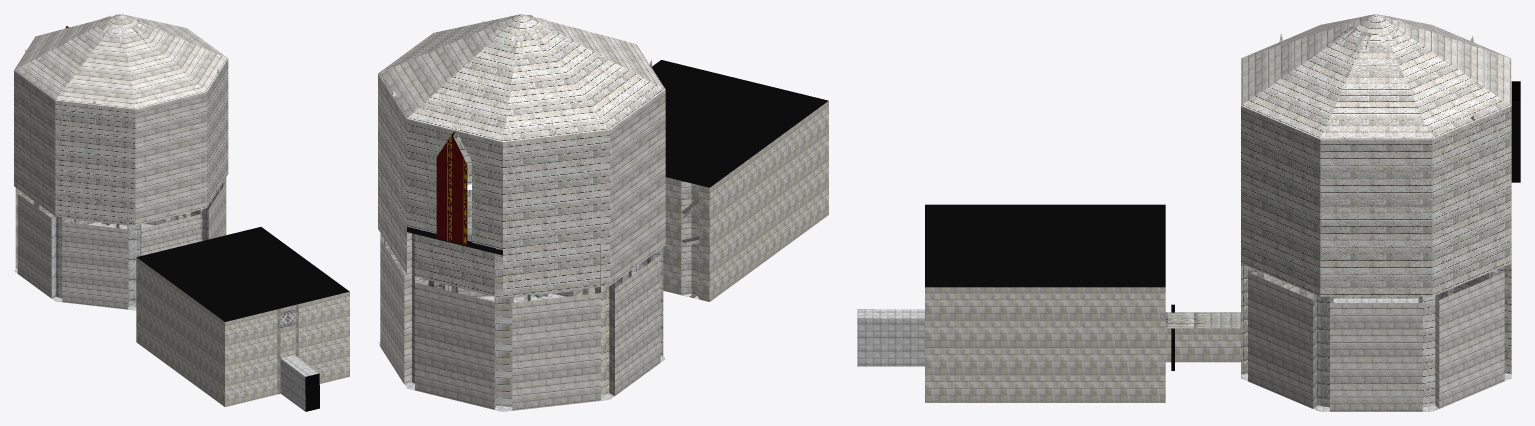
File: temple.gltf
The picture shows the model from 3 angles, left to right: view 1: azimuth 30°, elevation 25°; view 2: azimuth 150°, elevation 25°; view 3: azimuth 270°, elevation 25°; orthographic projection. The views are drawn at different scales.
Visible parts, largest first — view 1: TempleofTime; view 2: TempleofTime; view 3: TempleofTime.
Part boxes in pixels (x1=…): TempleofTime: x1=14, y1=14, x2=349, y2=411; TempleofTime: x1=378, y1=14, x2=828, y2=411; TempleofTime: x1=857, y1=14, x2=1520, y2=411.
Size of the model in its own units: 5.76 by 8.16 by 14.11.
34 materials, 34 textured.
